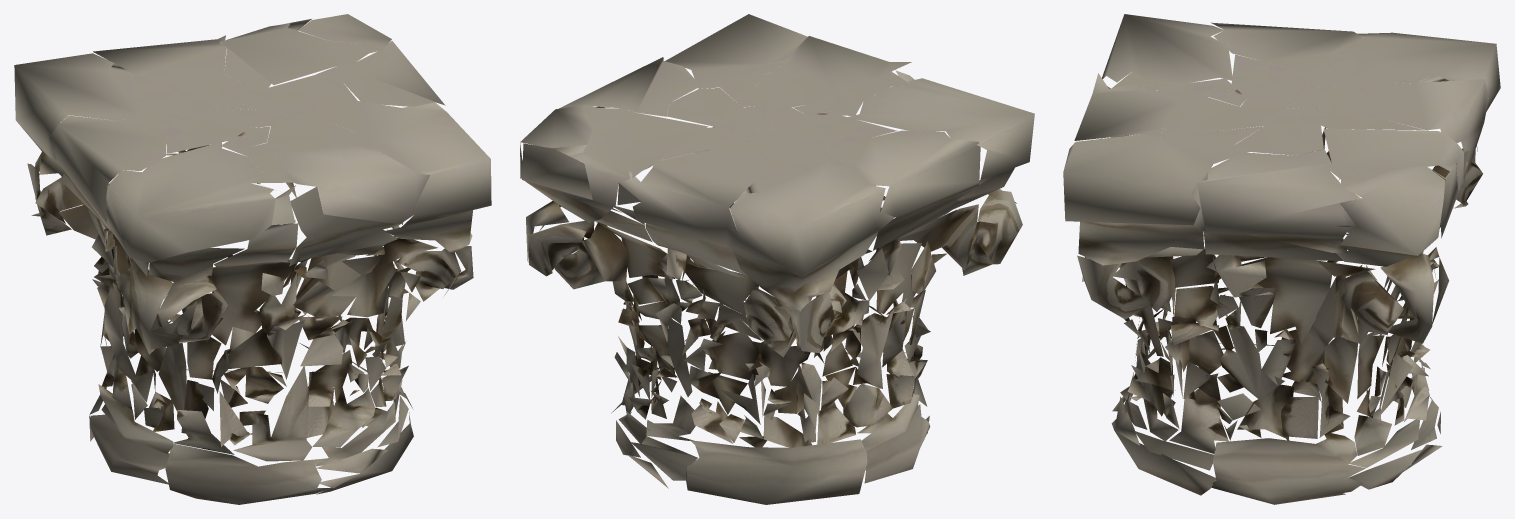
The model's file is penn_capital.glb.
The picture shows the model from 3 angles, left to right: view 1: azimuth 30°, elevation 25°; view 2: azimuth 150°, elevation 25°; view 3: azimuth 270°, elevation 25°; orthographic projection. The views are drawn at different scales.
Parts seen in each view (by area): view 1: tripo_node_59b92b68-87fa-48c0-85b7-b8b20d226e39; view 2: tripo_node_59b92b68-87fa-48c0-85b7-b8b20d226e39; view 3: tripo_node_59b92b68-87fa-48c0-85b7-b8b20d226e39.
Part boxes in pixels (x1,y1,x2,y2): tripo_node_59b92b68-87fa-48c0-85b7-b8b20d226e39: (14,14,491,504); tripo_node_59b92b68-87fa-48c0-85b7-b8b20d226e39: (520,14,1034,504); tripo_node_59b92b68-87fa-48c0-85b7-b8b20d226e39: (1063,14,1500,504).
Bounding box in the file's own units: 0.9886 × 0.8311 × 0.9701.
1 material, 1 textured.
